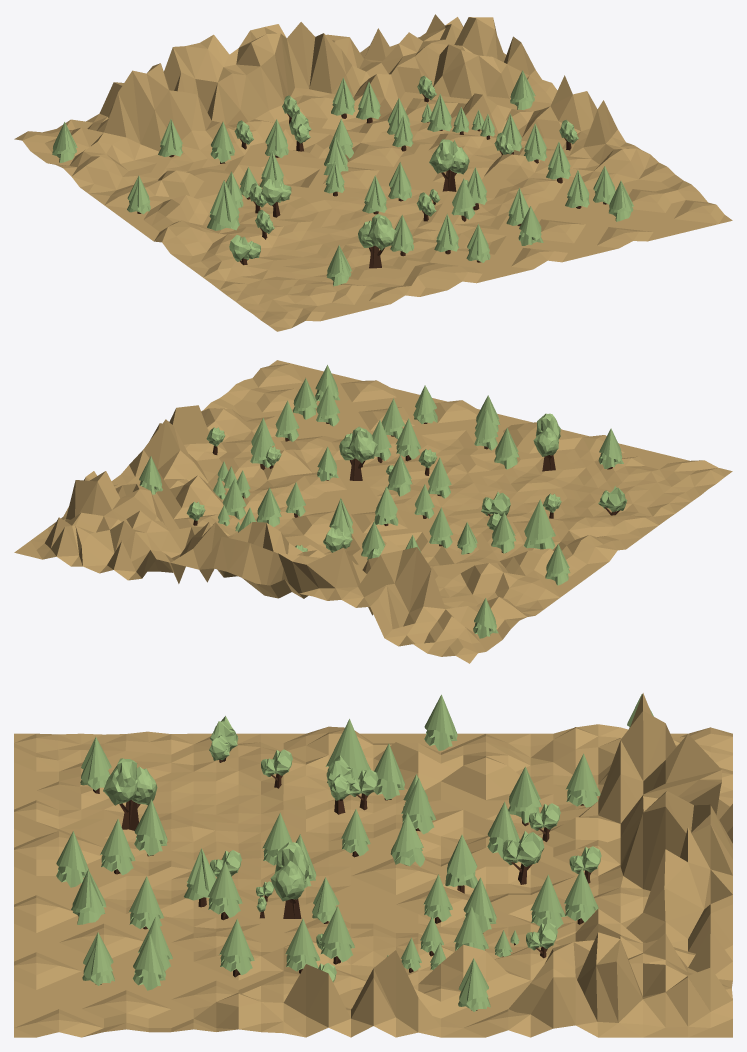
File: environment_vr.fbx
The picture shows the model from 3 angles, top to bottom: view 1: azimuth 30°, elevation 25°; view 2: azimuth 150°, elevation 25°; view 3: azimuth 270°, elevation 25°; orthographic projection. The views are drawn at different scales.
Visible parts, largest first — view 1: Landscape, SmallTree.005, SmallTree.013, Tree.028, SmallTree.002, Tree.029, Tree.030, Tree.025, Tree.040, Tree.019, SmallTree.012, Tree.031 (+18 smaller); view 2: Landscape, SmallTree.013, SmallTree.005, Tree.028, Tree.019, Tree.038, Tree.037, Tree.034, Tree.035, Tree.025, Tree.032, Tree.024 (+17 smaller); view 3: Landscape, SmallTree.005, SmallTree.013, SmallTree.011, Tree.018, Tree.001, Tree.010, Tree.009, Tree.015, Tree.040, Tree.035, Tree.032 (+31 smaller).
Part boxes in pixels (x1,y1,x2,y2): Landscape: (14,14,732,331); SmallTree.005: (358,214,396,268); SmallTree.013: (429,139,469,191); Tree.028: (207,180,239,230); SmallTree.002: (261,179,291,217); Tree.029: (608,180,633,221); Tree.030: (52,122,77,162); Tree.025: (326,245,351,286); Tree.040: (518,206,543,245); Tree.019: (451,178,475,221); SmallTree.012: (229,235,260,265); Tree.031: (510,70,535,109); Landscape: (14,360,732,663); SmallTree.013: (339,426,377,480); SmallTree.005: (533,413,560,471); Tree.028: (523,499,555,549); Tree.019: (395,418,421,461); Tree.038: (545,544,570,585); Tree.037: (387,455,412,496); Tree.034: (491,512,515,553); Tree.035: (494,428,519,469); Tree.025: (598,428,623,469); Tree.032: (293,378,317,419); Tree.024: (374,486,398,525); Landscape: (14,693,732,1037); SmallTree.005: (103,758,157,830); SmallTree.013: (270,842,309,918); SmallTree.011: (502,831,544,884); Tree.018: (445,834,477,893); Tree.001: (207,861,242,920); Tree.010: (320,906,354,964); Tree.009: (219,919,254,977); Tree.015: (100,819,135,875); Tree.040: (71,869,106,924); Tree.035: (134,799,167,856); Tree.032: (132,934,165,990).
Bounding box in the file's own units: 1801 × 318 × 1796.
